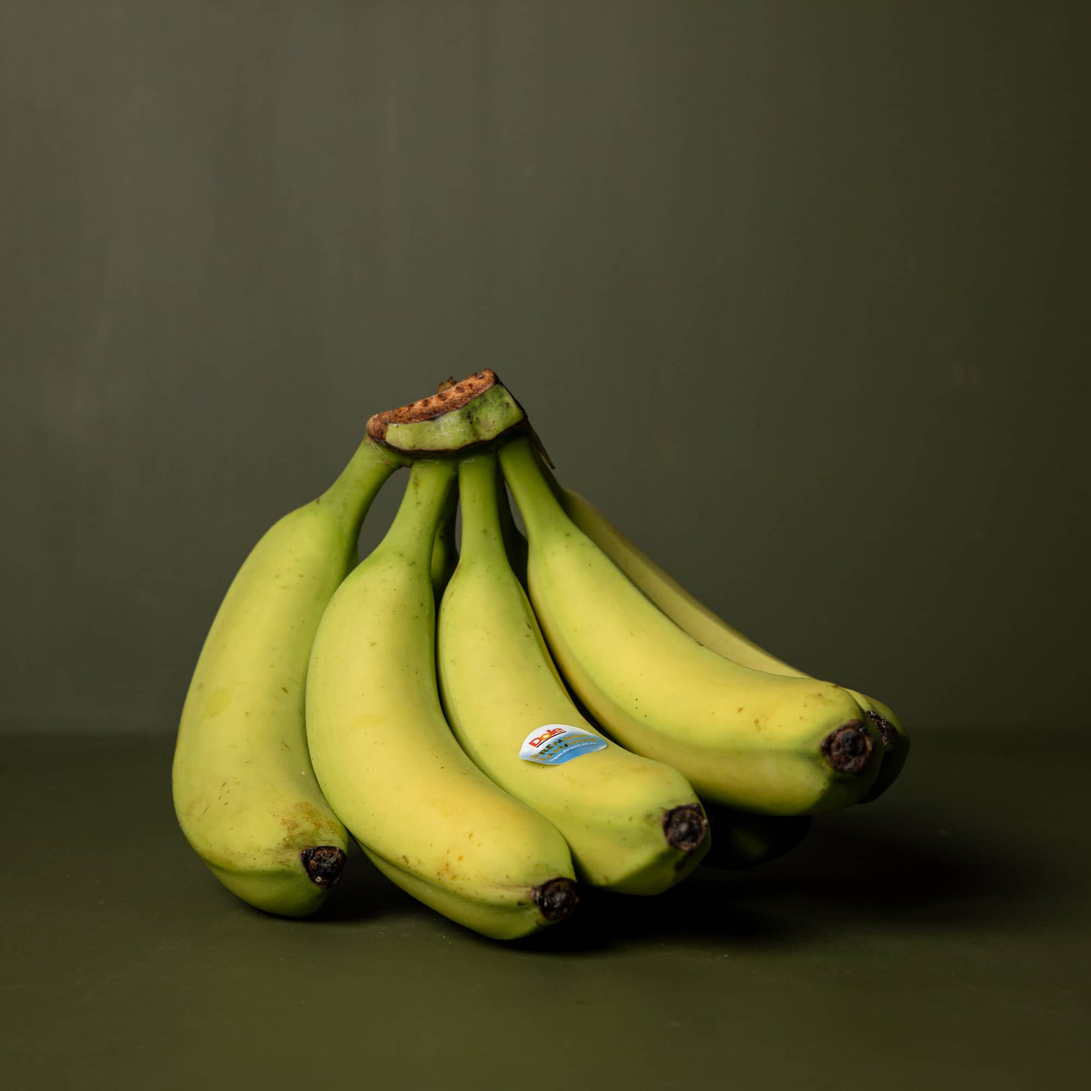banana: (148, 383, 904, 931)
